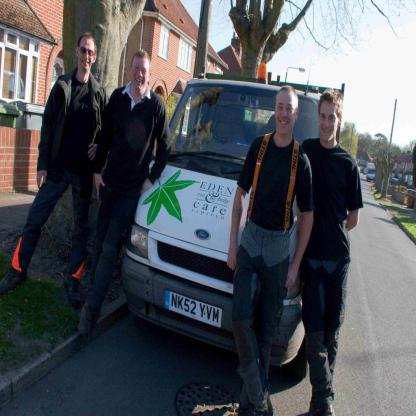face: (276, 92, 296, 135), (320, 102, 339, 141), (131, 57, 150, 94), (80, 38, 96, 71)
